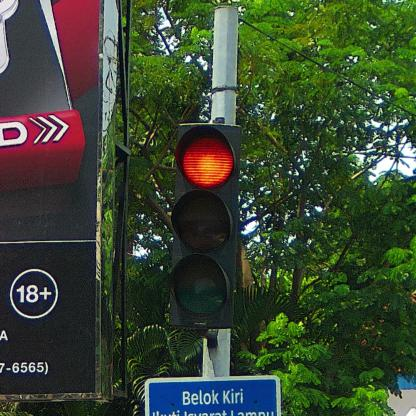red: (166, 121, 240, 329)
